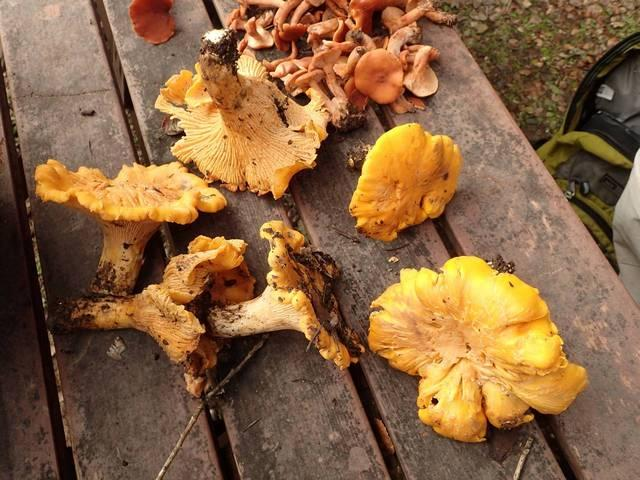Edible Mushroom: (172, 1, 435, 188), (366, 253, 589, 443), (64, 236, 253, 385), (33, 156, 227, 297), (217, 224, 364, 370), (347, 121, 461, 242)
